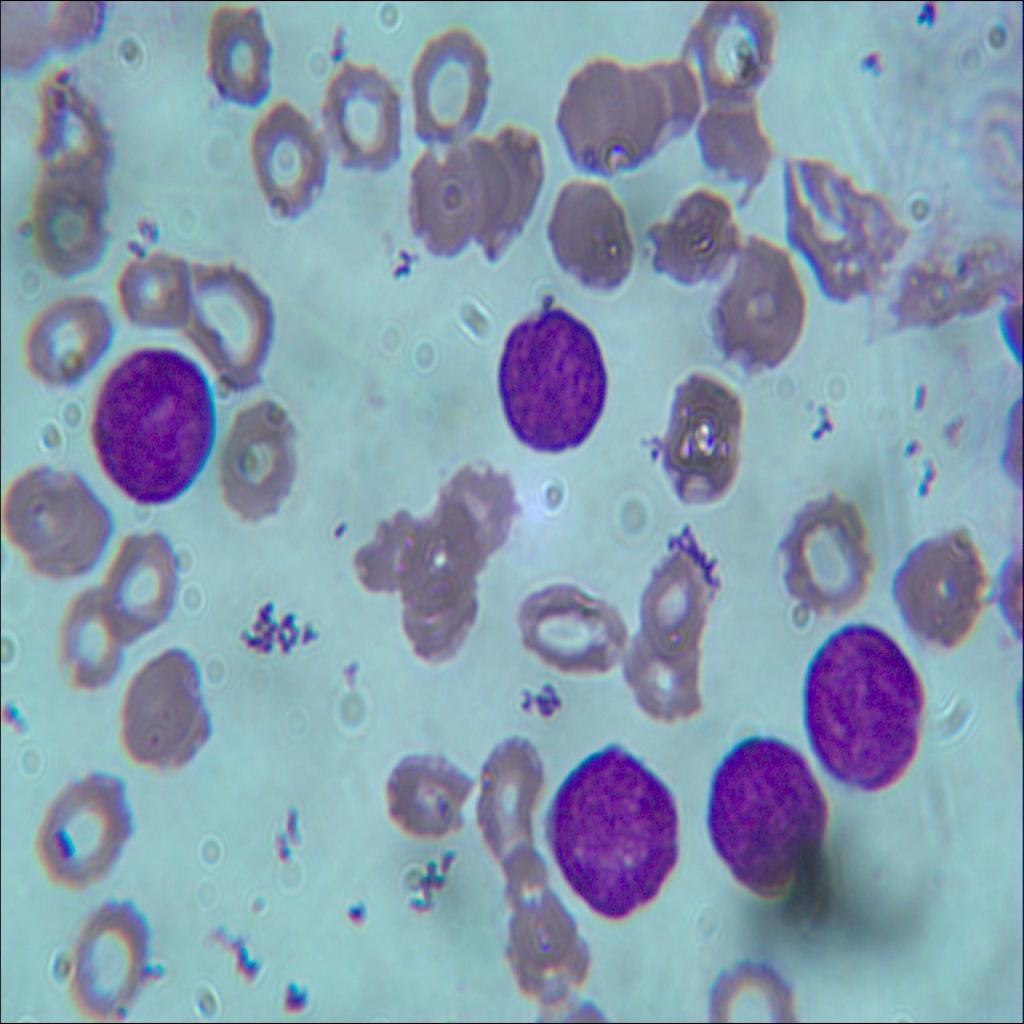Eritrosit: (692, 228, 806, 379), (779, 157, 889, 301), (113, 645, 209, 784), (779, 485, 875, 622), (884, 514, 982, 645), (34, 762, 134, 888), (188, 264, 289, 388), (658, 382, 746, 520), (64, 894, 158, 1023), (216, 394, 304, 530), (548, 172, 641, 298), (515, 569, 619, 674), (474, 117, 551, 257), (380, 734, 470, 852), (464, 725, 541, 861), (312, 58, 406, 168), (646, 184, 738, 294), (690, 97, 781, 205), (246, 105, 335, 211), (406, 138, 490, 248), (399, 40, 494, 136), (18, 284, 106, 387), (624, 624, 710, 729), (688, 0, 773, 103), (32, 74, 110, 184), (560, 62, 638, 172), (198, 7, 281, 109), (506, 898, 598, 986), (104, 534, 178, 638), (628, 550, 702, 651), (31, 170, 108, 266), (626, 50, 700, 144), (115, 247, 194, 332), (706, 954, 801, 1023), (499, 845, 555, 927), (62, 597, 116, 682)
Limfoblast: (555, 741, 682, 927), (480, 304, 618, 467), (86, 351, 218, 520), (706, 734, 830, 898), (806, 625, 926, 788)
Platelet: (314, 498, 366, 571), (340, 884, 366, 934)
